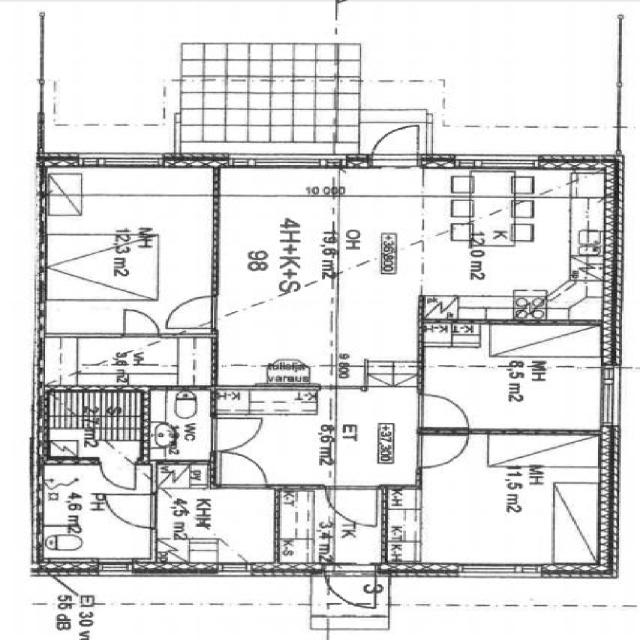door: (33, 316, 222, 387), (58, 478, 156, 552), (362, 118, 426, 168), (320, 564, 380, 612), (410, 427, 474, 471), (202, 412, 269, 454), (324, 483, 384, 529), (412, 389, 476, 429), (99, 491, 159, 532), (160, 292, 219, 333), (214, 449, 271, 489), (114, 302, 166, 338), (94, 459, 139, 492)
window: (61, 148, 169, 173), (593, 362, 626, 432), (448, 152, 550, 174), (229, 151, 339, 170), (452, 560, 538, 583), (91, 556, 141, 578), (212, 558, 254, 579)
zone: (397, 170, 609, 321), (38, 161, 213, 337), (397, 430, 613, 570), (215, 182, 339, 388), (36, 460, 155, 570), (152, 484, 278, 568), (40, 334, 216, 387), (328, 385, 418, 486), (43, 386, 148, 459), (142, 385, 216, 464), (545, 276, 615, 322)
